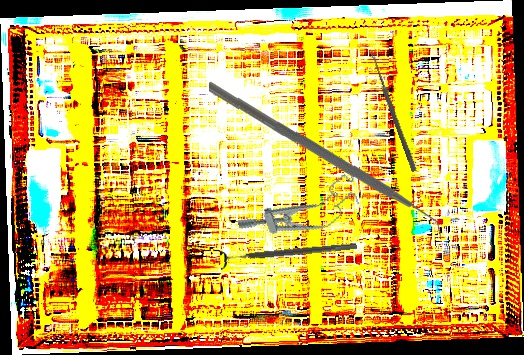Chopper: (208, 77, 442, 252)
Fixation Ring: (219, 235, 358, 272)
Speculum: (234, 172, 366, 254)
Surgical Spoon: (368, 49, 418, 173)
